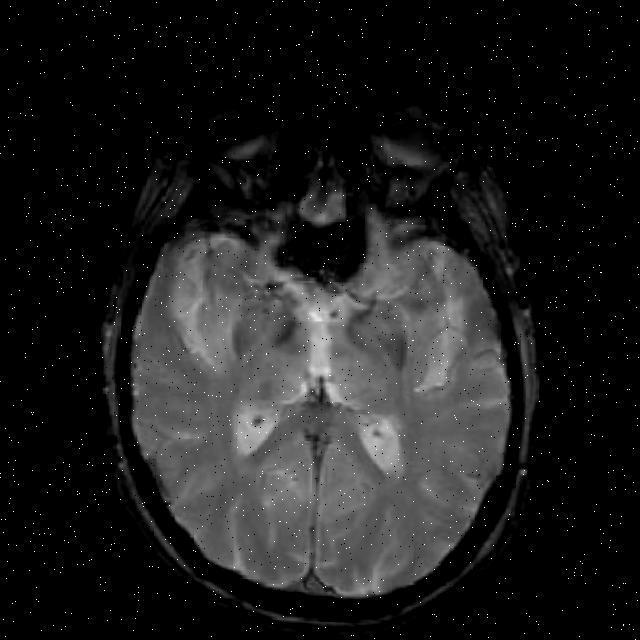MCI: (269, 210, 371, 284)
